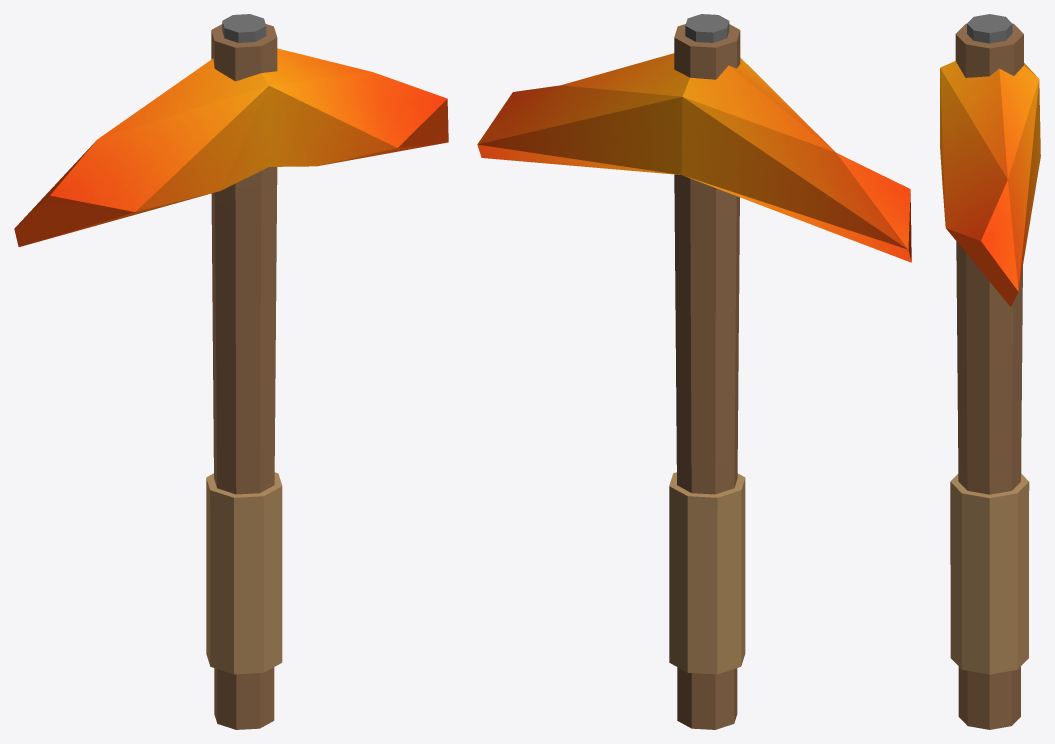
Rendered from Pickaxe2.fbx.
3 views of the same model, side by side, from view 1: azimuth 30°, elevation 25°; view 2: azimuth 150°, elevation 25°; view 3: azimuth 270°, elevation 25° (orthographic).
Parts seen in each view (by area): view 1: Pickaxe2; view 2: Pickaxe2; view 3: Pickaxe2.
Part boxes in pixels (x1,y1,x2,y2): Pickaxe2: (14, 14, 448, 729); Pickaxe2: (477, 14, 911, 729); Pickaxe2: (940, 14, 1040, 729).
Size of the model in its own units: 28.1 by 43.21 by 5.69.
